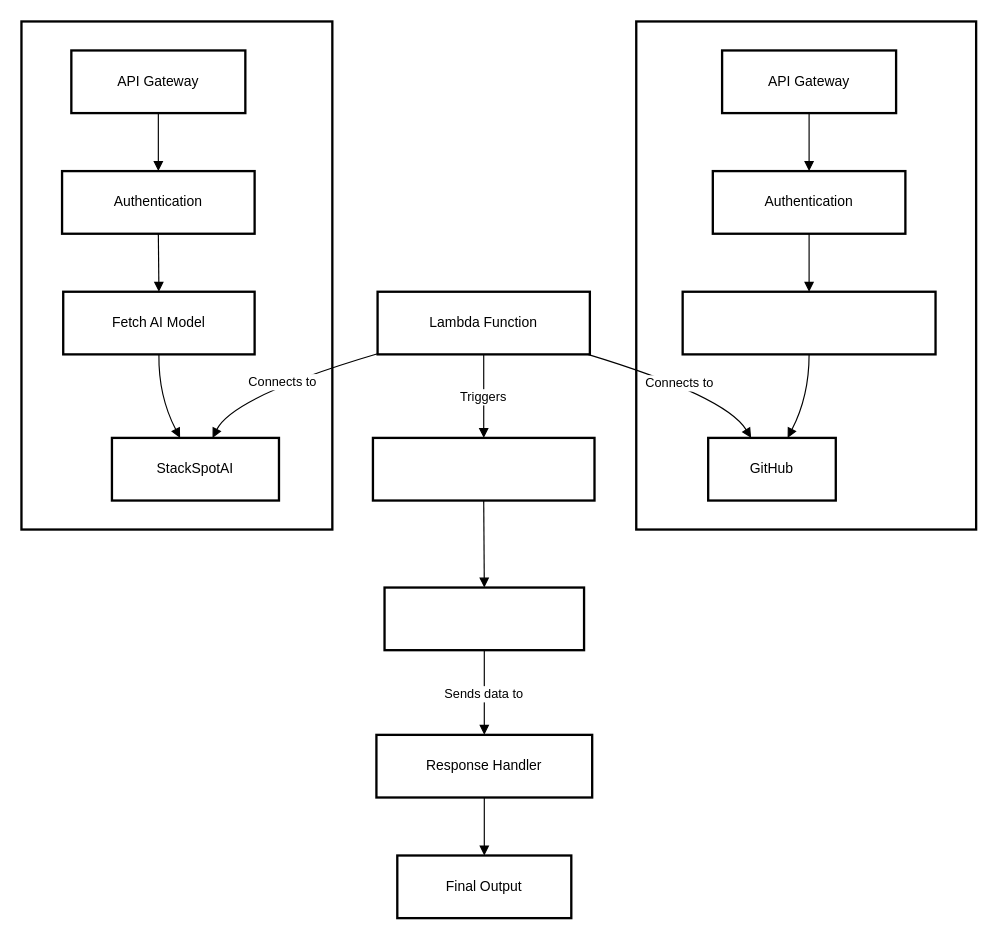
Some shapes in this 996 by 938 pixel diagram are drawn without their labels. The box of each missing label's shape, as (x1, y1, x2, y2) in pixels:
Data Processing: (383, 586, 585, 651)
Execution Context: (371, 436, 595, 501)
Fetch Repository Data: (681, 290, 936, 355)
GitHub Connection: (635, 20, 977, 530)
StackSpotAI Connection: (20, 20, 333, 530)
